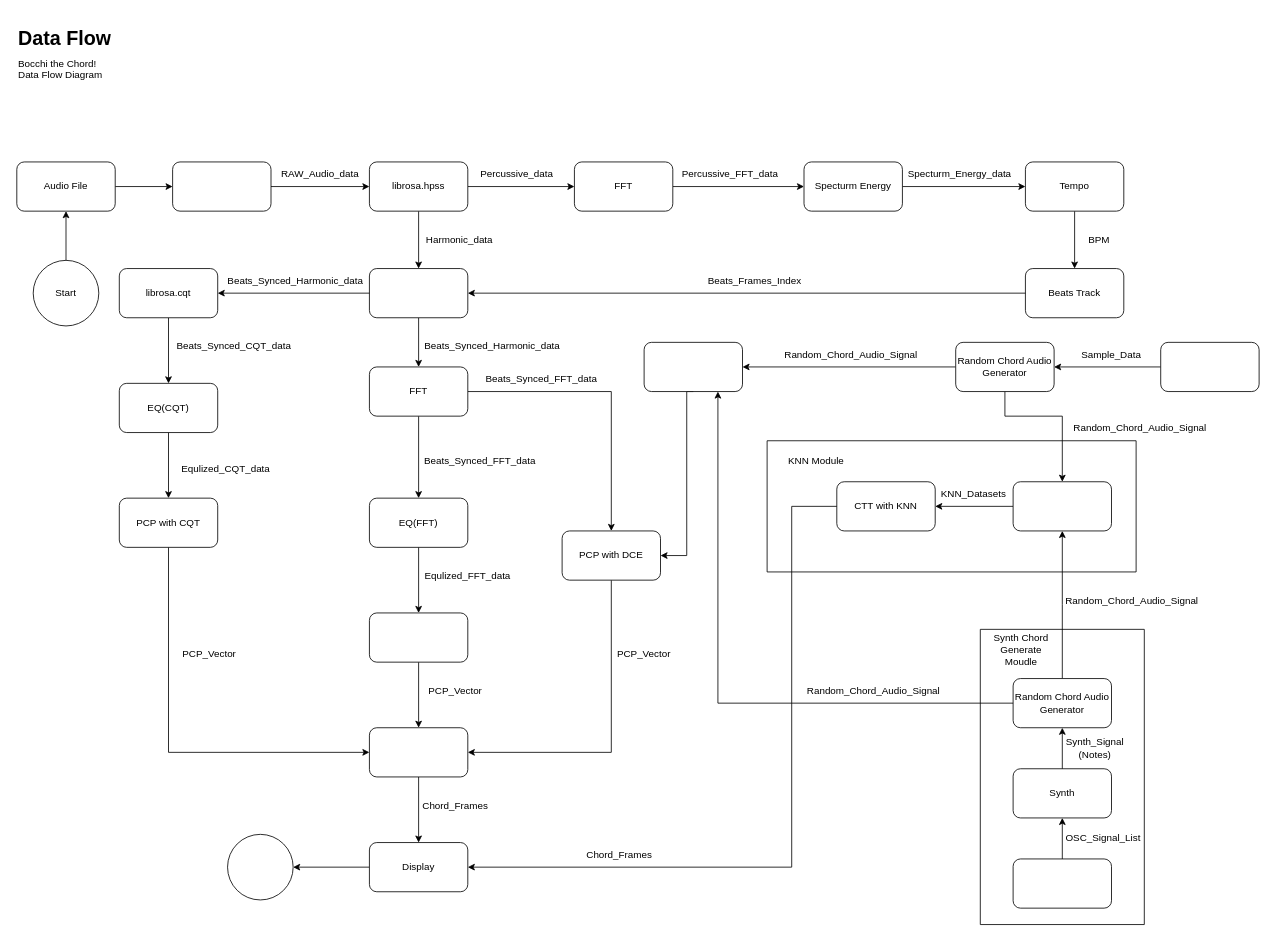
The diagram is 1273 pixels wide and 939 high, and some of its shapes have lost their labels. The shapes that lost their labels are listed below. From the top down, each one's centre as x and y in pixels, then its label:
At [221,186]: "librosa.load".
At [418,293]: "Beats_Sync".
At [693,367]: "DNN Modle Generator".
At [1209,367]: "Alicias Keys Samples".
At [1062,506]: "KNN Datasets Generator".
At [418,637]: "PCP with FFT".
At [418,752]: "CTT".
At [260,867]: "End".
At [1062,883]: "OSC".
